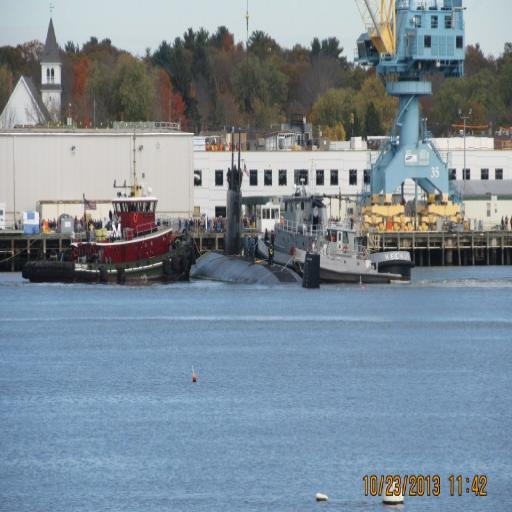submarine: (194, 130, 322, 289)
